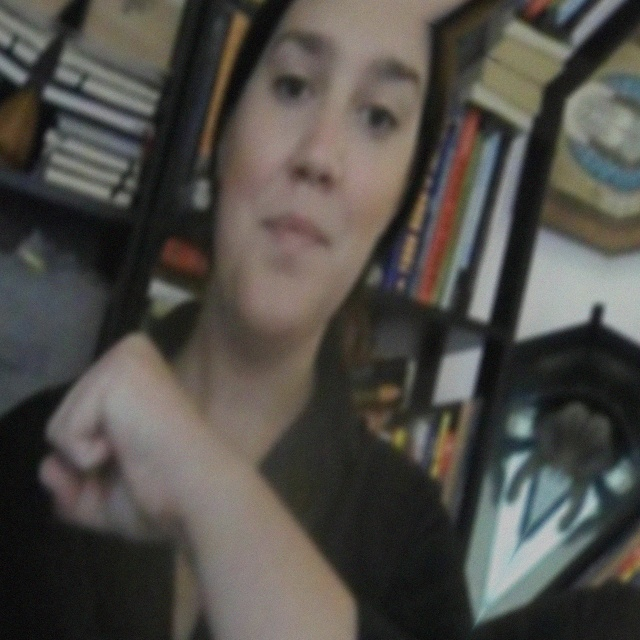Rock: (0, 239, 309, 640)
